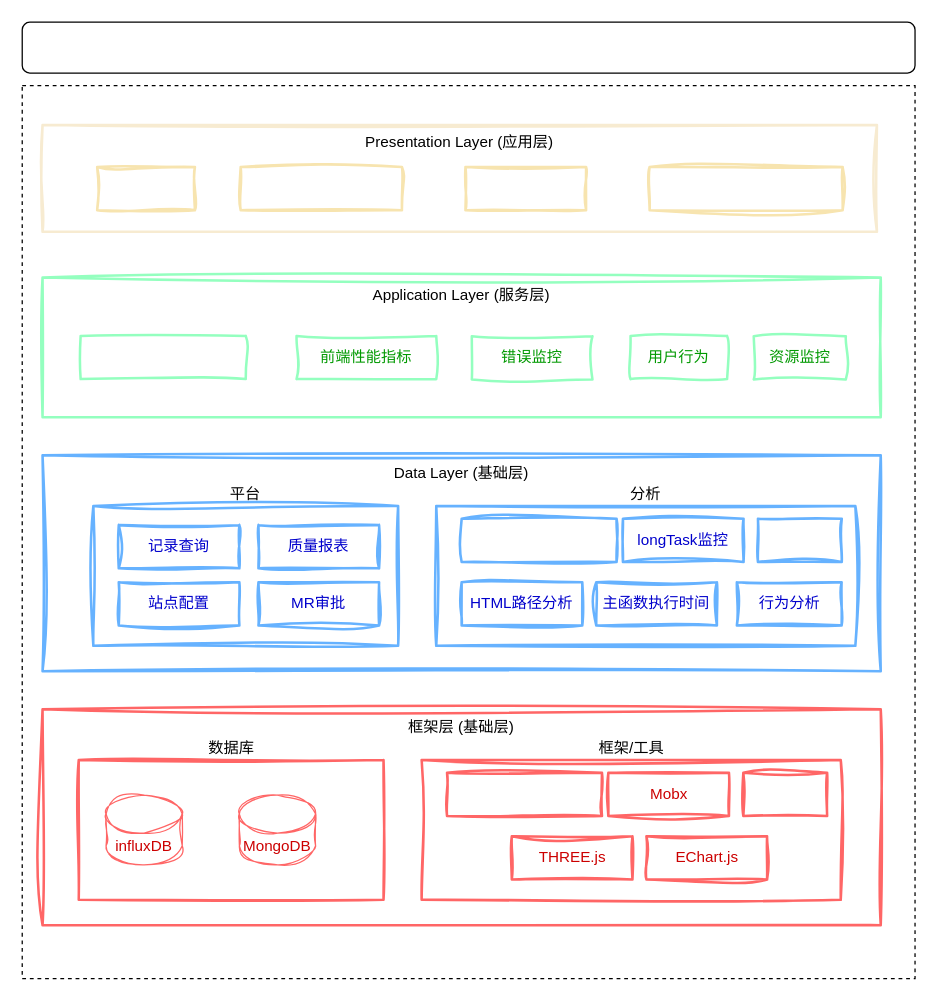
Image size: 937x1001. Some labels were removed from this diagram. The shapes that lost their labels are listed below. From the top down, each one's centre as x and y in pixels, then its label:
At pixel 468 47: "全景图".
At pixel 145 188: "数据看板".
At pixel 321 188: "站点配置中台".
At pixel 525 188: "机器人通知".
At pixel 745 188: "前端SDK".
At pixel 162 357: "THREE.js 性能指标".
At pixel 538 540: "THREE.js性能记录".
At pixel 799 540: "智能回放".
At pixel 524 794: "React".
At pixel 784 794: "Koa".
